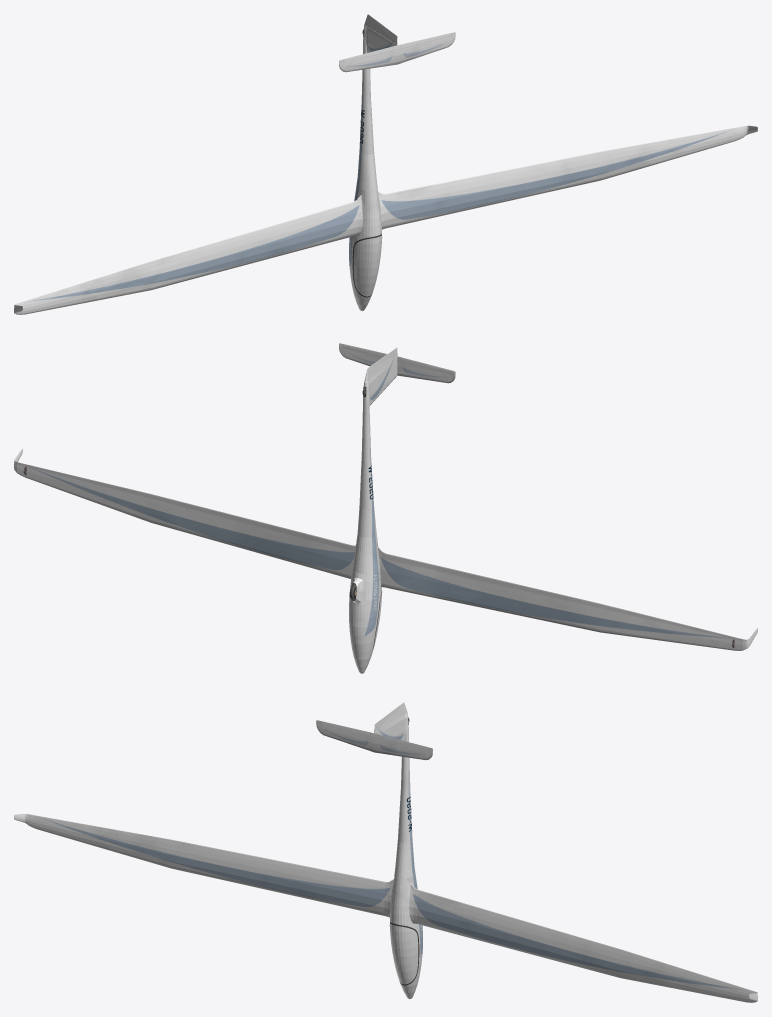
File: glider.obj
3 views of the same model, one above another, from view 1: azimuth 30°, elevation 25°; view 2: azimuth 150°, elevation 25°; view 3: azimuth 330°, elevation 25° (orthographic).
Parts seen in each view (by area): view 1: GLIDER_Circle.002, FUSELAGE_Circle.006; view 2: GLIDER_Circle.002; view 3: GLIDER_Circle.002, FUSELAGE_Circle.006.
Part boxes in pixels (x1,y1,x2,y2): GLIDER_Circle.002: (14,14,757,314); FUSELAGE_Circle.006: (353,235,382,296); GLIDER_Circle.002: (14,343,757,673); GLIDER_Circle.002: (14,702,757,1002); FUSELAGE_Circle.006: (389,923,418,984).
Bounding box in the file's own units: 15.18 × 5.93 × 1.68.
1 material, 1 textured.
